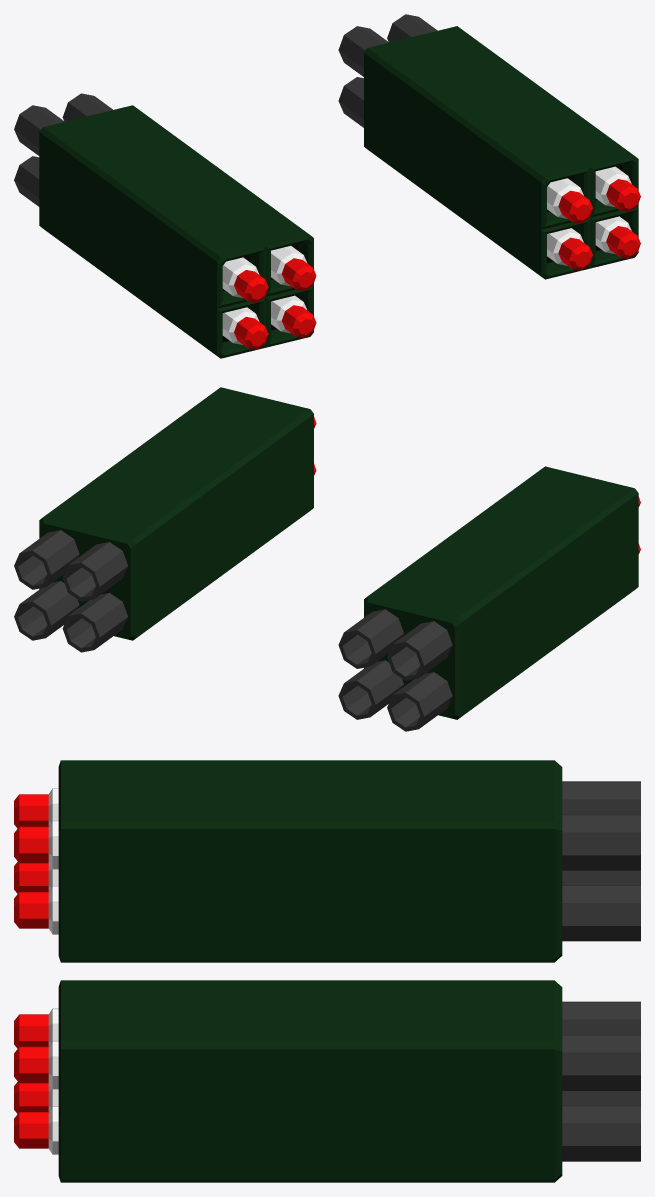
File: TankWeapon_Missile 1.fbx
3 renders of one model, top to bottom at view 1: azimuth 30°, elevation 25°; view 2: azimuth 150°, elevation 25°; view 3: azimuth 270°, elevation 25°, orthographic. The views are drawn at different scales.
Parts seen in each view (by area): view 1: Missile; view 2: Missile; view 3: Missile.
Boxes of the visible parts, x1,y1,x2,y2 form: Missile: [14, 14, 640, 358]; Missile: [14, 387, 640, 731]; Missile: [14, 760, 640, 1182].
Bounding box in the file's own units: 72.58 × 16.72 × 67.24.
